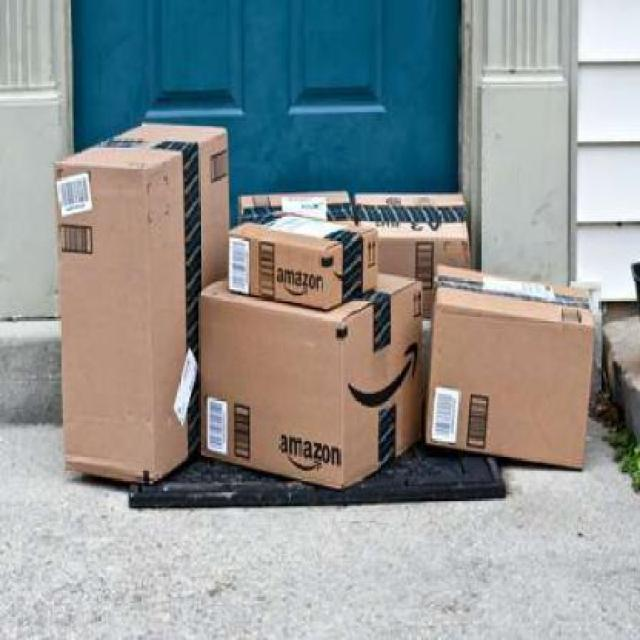cardboxes: (55, 113, 230, 489), (199, 274, 426, 489), (429, 258, 597, 478), (219, 212, 386, 312), (351, 186, 480, 274)
